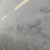others: (1, 1, 34, 22)
